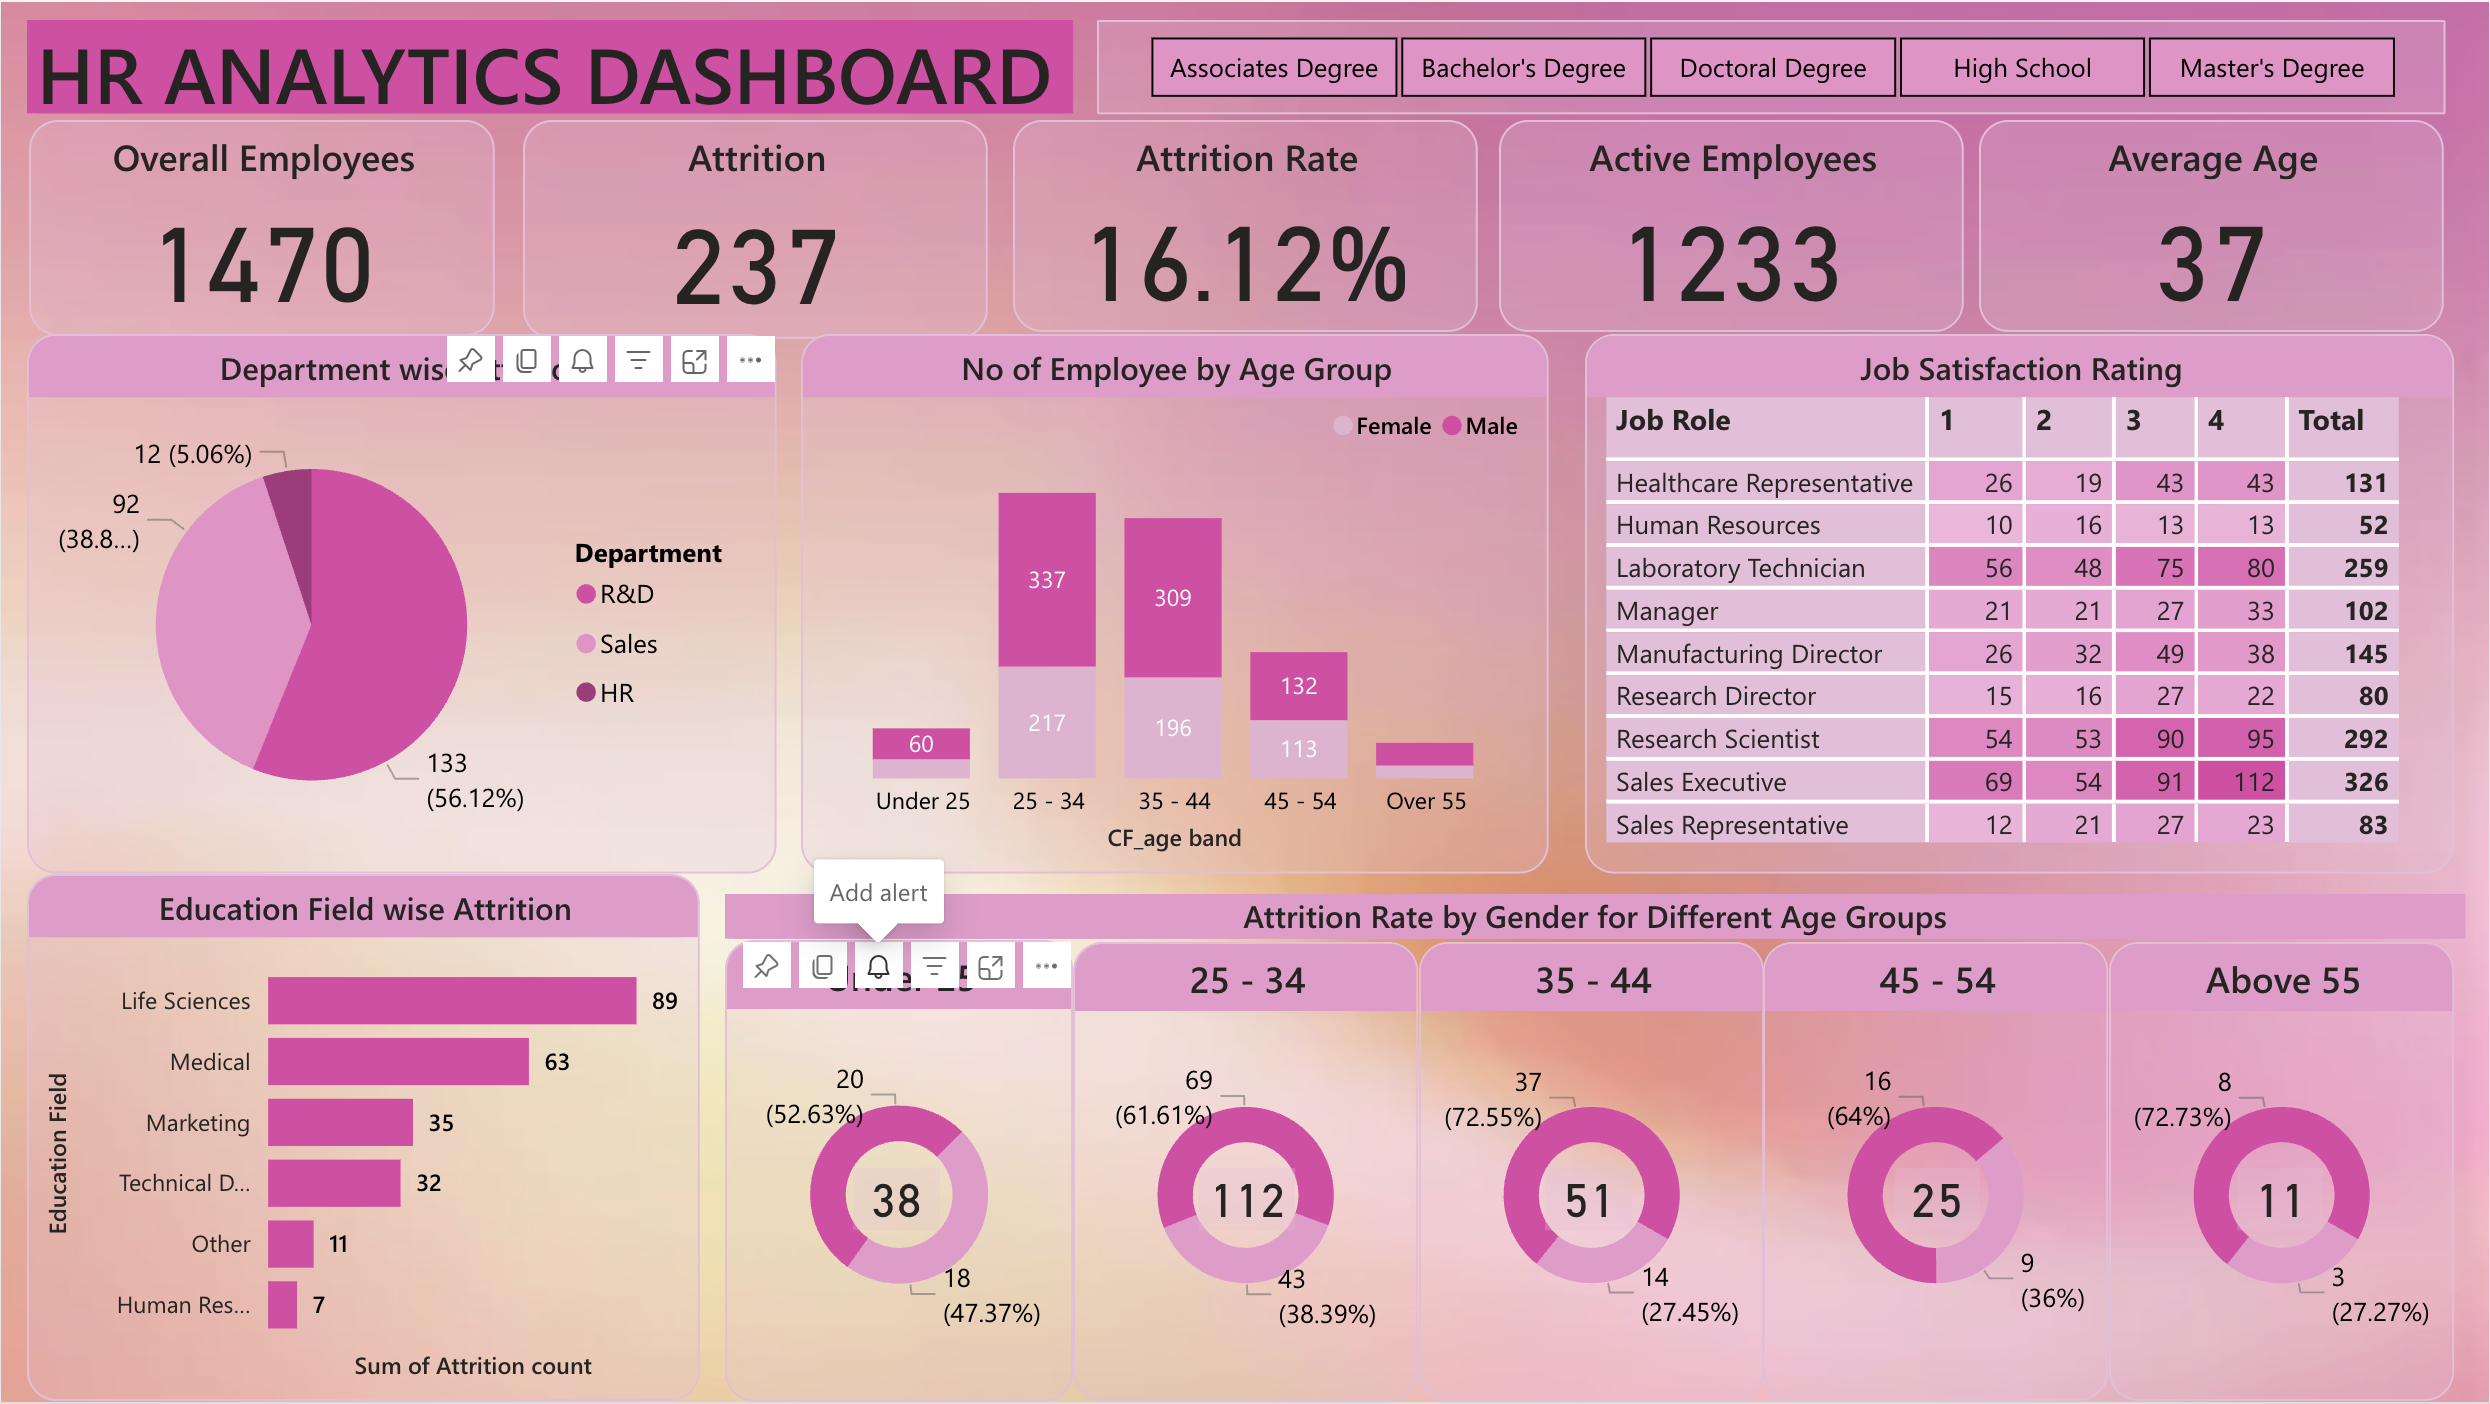

The page's visual inventory and layout, read from the dashboard file:
{"tool":"powerbi","page":{"name":"Page 1","canvas":[1280,720],"ordinal":0},"visuals":[{"type":"card","title":"Overall Employees","fields":{"Values":["Sum(HR data.Employee Count)"]},"box":[14,61.2,239.7,110.9],"z":0},{"type":"card","title":"Attrition","fields":{"Values":["Sum(HR data.Attrition count)"]},"box":[268.4,60.3,238.9,112.6],"z":1000},{"type":"card","title":"Attrition Rate","fields":{"Values":["HR data.Attrition Rate"]},"box":[520.9,60.3,238.9,109.2],"z":2000},{"type":"card","title":"Active Employees","fields":{"Values":["HR data.Active Employees"]},"box":[770,60.3,238.9,109.2],"z":3000},{"type":"card","title":"Average Age","fields":{"Values":["Avg(HR data.Age)"]},"box":[1016.9,60.3,238.9,109.2],"z":4000},{"type":"pieChart","title":"Department wise Attrition","fields":{"Category":["HR data.Department"],"Y":["Sum(HR data.Attrition count)"]},"box":[13.6,170.6,385.6,277.5],"z":5000},{"type":"columnChart","title":"No of Employee by Age Group","fields":{"Category":["HR data.CF_age band"],"Y":["Sum(HR data.Employee Count)"],"Series":["HR data.Gender"]},"box":[411.8,170.6,384.5,277.5],"z":6000},{"type":"pivotTable","title":"Job Satisfaction Rating","fields":{"Rows":["HR data.Job Role"],"Columns":["HR data.Job Satisfaction"],"Values":["Sum(HR data.Employee Count)"]},"box":[814.4,170.6,447,277.5],"z":7000},{"type":"barChart","title":"Education Field wise Attrition","fields":{"Category":["HR data.Education Field"],"Y":["Sum(HR data.Attrition count)"]},"box":[13.8,448.6,346,271],"z":8000},{"type":"donutChart","title":"Under 25","fields":{"Category":["HR data.Gender"],"Y":["Sum(HR data.Attrition count)"],"Series":["HR data.CF_age band"]},"box":[372.1,482.3,179.1,237.3],"z":9000},{"type":"textbox","title":"Attrition Rate by Gender for Different Age Groups","box":[372.3,459,895,22.9],"z":10000},{"type":"donutChart","title":"25 - 34","fields":{"Category":["HR data.Gender"],"Y":["Sum(HR data.Attrition count)"],"Series":["HR data.CF_age band"]},"box":[551.2,483.8,177.6,235.8],"z":11000},{"type":"donutChart","title":"35 - 44","fields":{"Category":["HR data.Gender"],"Y":["Sum(HR data.Attrition count)"],"Series":["HR data.CF_age band"]},"box":[728.8,483.8,177.6,235.8],"z":12000},{"type":"donutChart","title":"45 - 54","fields":{"Category":["HR data.Gender"],"Y":["Sum(HR data.Attrition count)"],"Series":["HR data.CF_age band"]},"box":[906.4,483.8,177.6,235.8],"z":13000},{"type":"donutChart","title":"Above 55","fields":{"Category":["HR data.Gender"],"Y":["Sum(HR data.Attrition count)"],"Series":["HR data.CF_age band"]},"box":[1084,483.8,177.6,235.8],"z":14000},{"type":"card","fields":{"Values":["Sum(HR data.Attrition count)"]},"box":[438.6,599.2,44.6,31.9],"z":15000},{"type":"card","fields":{"Values":["Sum(HR data.Attrition count)"]},"box":[615.8,599.2,49.7,31.9],"z":16000},{"type":"card","fields":{"Values":["Sum(HR data.Attrition count)"]},"box":[794.3,599.2,44.6,31.9],"z":16001},{"type":"card","fields":{"Values":["Sum(HR data.Attrition count)"]},"box":[974,599.2,43.3,31.9],"z":16002},{"type":"card","fields":{"Values":["Sum(HR data.Attrition count)"]},"box":[1150,599.2,44.6,31.9],"z":16003},{"type":"textbox","title":"HR ANALYTICS DASHBOARD","box":[13.6,9.1,538,47.8],"z":16004},{"type":"slicer","fields":{"Values":["HR data.Education"]},"box":[563.5,8.9,693.5,48.4],"z":16005}]}

Visuals, with their boxes in screenshot pixels (x1, y1, x2, y2), scaled from the page's 1280x720 canvas onto the 2490x1404 screenshot:
"Overall Employees" card: (left=27, top=119, right=494, bottom=336)
"Attrition" card: (left=522, top=118, right=987, bottom=337)
"Attrition Rate" card: (left=1013, top=118, right=1478, bottom=331)
"Active Employees" card: (left=1498, top=118, right=1963, bottom=331)
"Average Age" card: (left=1978, top=118, right=2443, bottom=331)
"Department wise Attrition" pieChart: (left=26, top=333, right=777, bottom=874)
"No of Employee by Age Group" columnChart: (left=801, top=333, right=1549, bottom=874)
"Job Satisfaction Rating" pivotTable: (left=1584, top=333, right=2454, bottom=874)
"Education Field wise Attrition" barChart: (left=27, top=875, right=700, bottom=1403)
"Under 25" donutChart: (left=724, top=940, right=1072, bottom=1403)
"Attrition Rate by Gender for Different Age Groups" textbox: (left=724, top=895, right=2465, bottom=940)
"25 - 34" donutChart: (left=1072, top=943, right=1418, bottom=1403)
"35 - 44" donutChart: (left=1418, top=943, right=1763, bottom=1403)
"45 - 54" donutChart: (left=1763, top=943, right=2109, bottom=1403)
"Above 55" donutChart: (left=2109, top=943, right=2454, bottom=1403)
card - Sum(HR data.Attrition count): (left=853, top=1168, right=940, bottom=1231)
card - Sum(HR data.Attrition count): (left=1198, top=1168, right=1295, bottom=1231)
card - Sum(HR data.Attrition count): (left=1545, top=1168, right=1632, bottom=1231)
card - Sum(HR data.Attrition count): (left=1895, top=1168, right=1979, bottom=1231)
card - Sum(HR data.Attrition count): (left=2237, top=1168, right=2324, bottom=1231)
"HR ANALYTICS DASHBOARD" textbox: (left=26, top=18, right=1073, bottom=111)
slicer - HR data.Education: (left=1096, top=17, right=2445, bottom=112)
